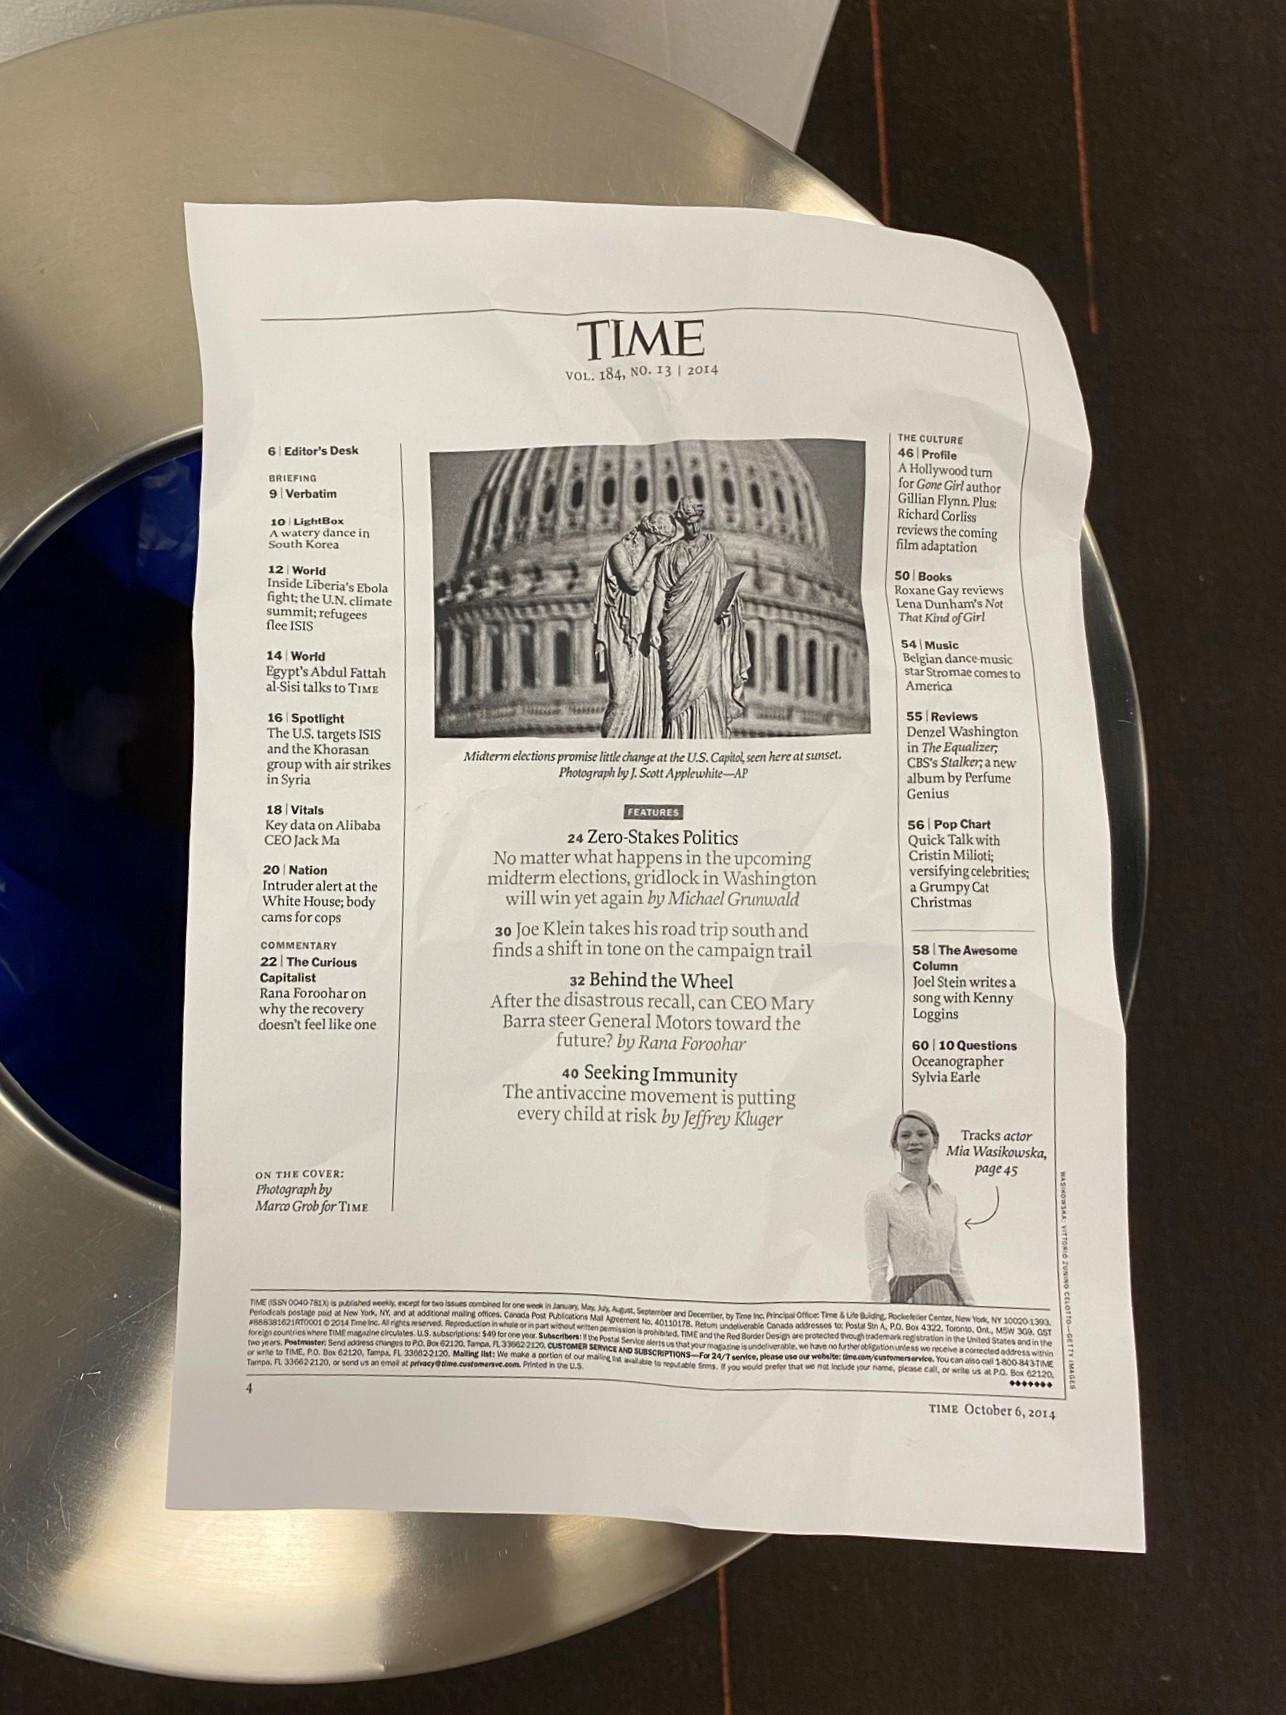paper: (92, 103, 1206, 1677)
